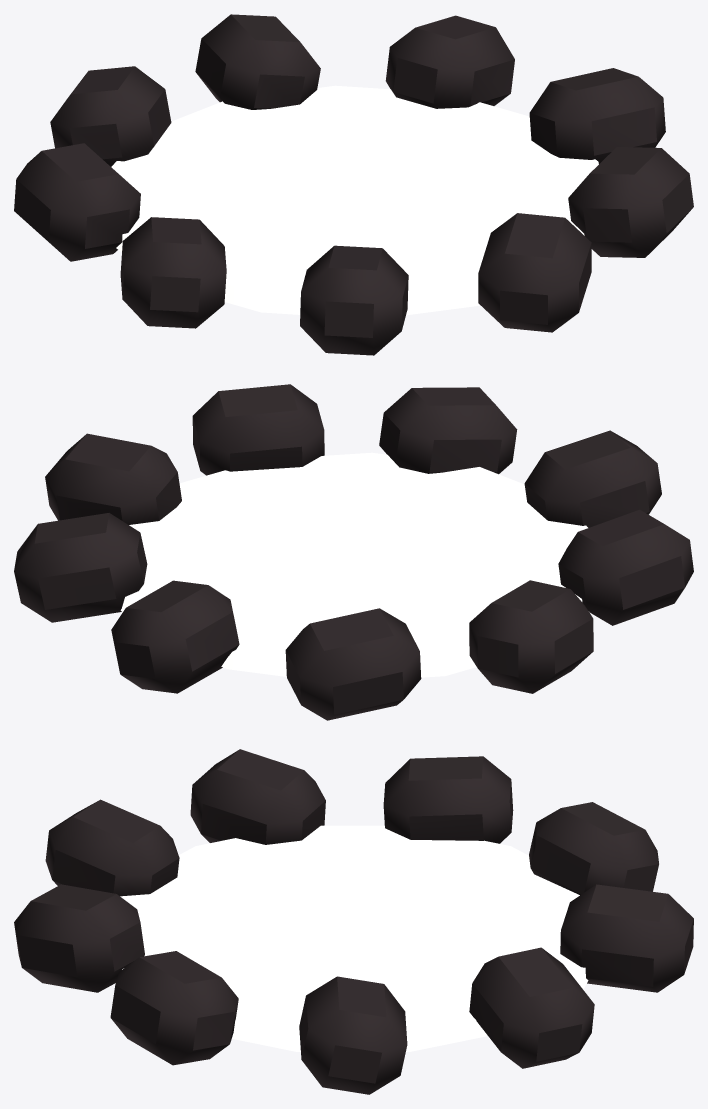
File: cv_glut_deco_1.glb
3 views of the same model, one above another, from view 1: azimuth 30°, elevation 25°; view 2: azimuth 150°, elevation 25°; view 3: azimuth 270°, elevation 25° (orthographic).
Visible parts, largest first — view 1: body, lava_glow; view 2: body, lava_glow; view 3: body, lava_glow.
Boxes of the visible parts, left/top/right/bottom form: body: left=14, top=14, right=693, bottom=355; lava_glow: left=111, top=85, right=598, bottom=315; body: left=14, top=384, right=693, bottom=720; lava_glow: left=120, top=452, right=587, bottom=677; body: left=14, top=749, right=693, bottom=1094; lava_glow: left=120, top=825, right=588, bottom=1051.
Size of the model in its own units: 2.64 by 0.4076 by 2.69.
